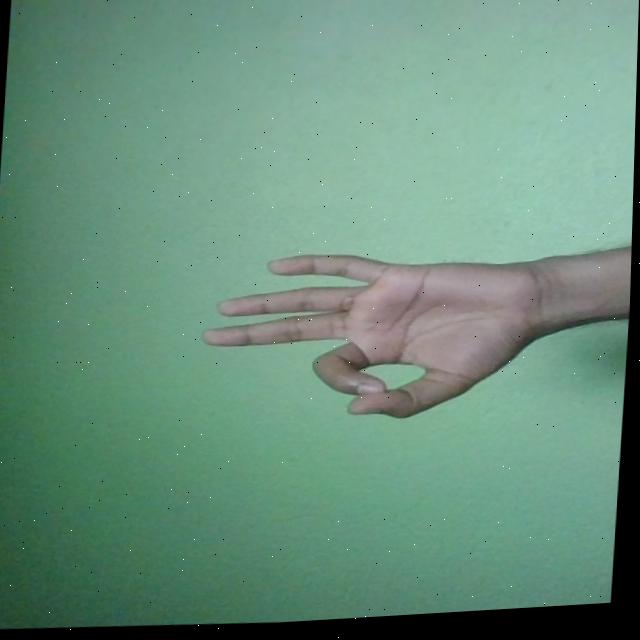Ok: (196, 241, 559, 436)
